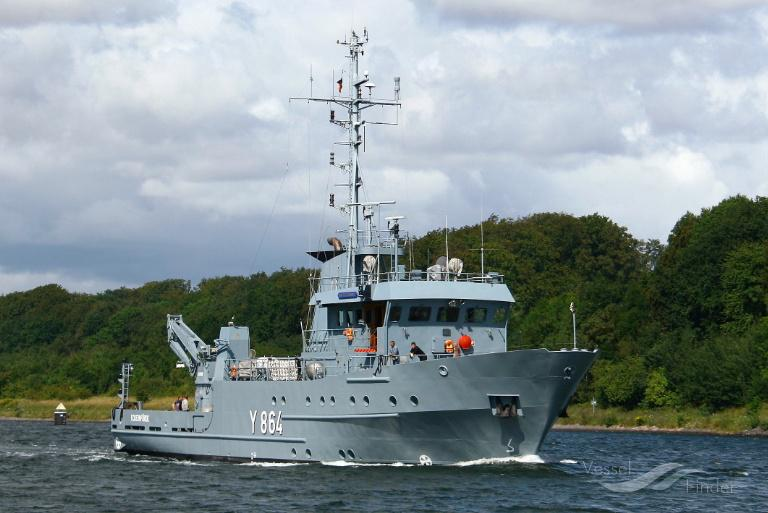OCR: (240, 401, 292, 450)
